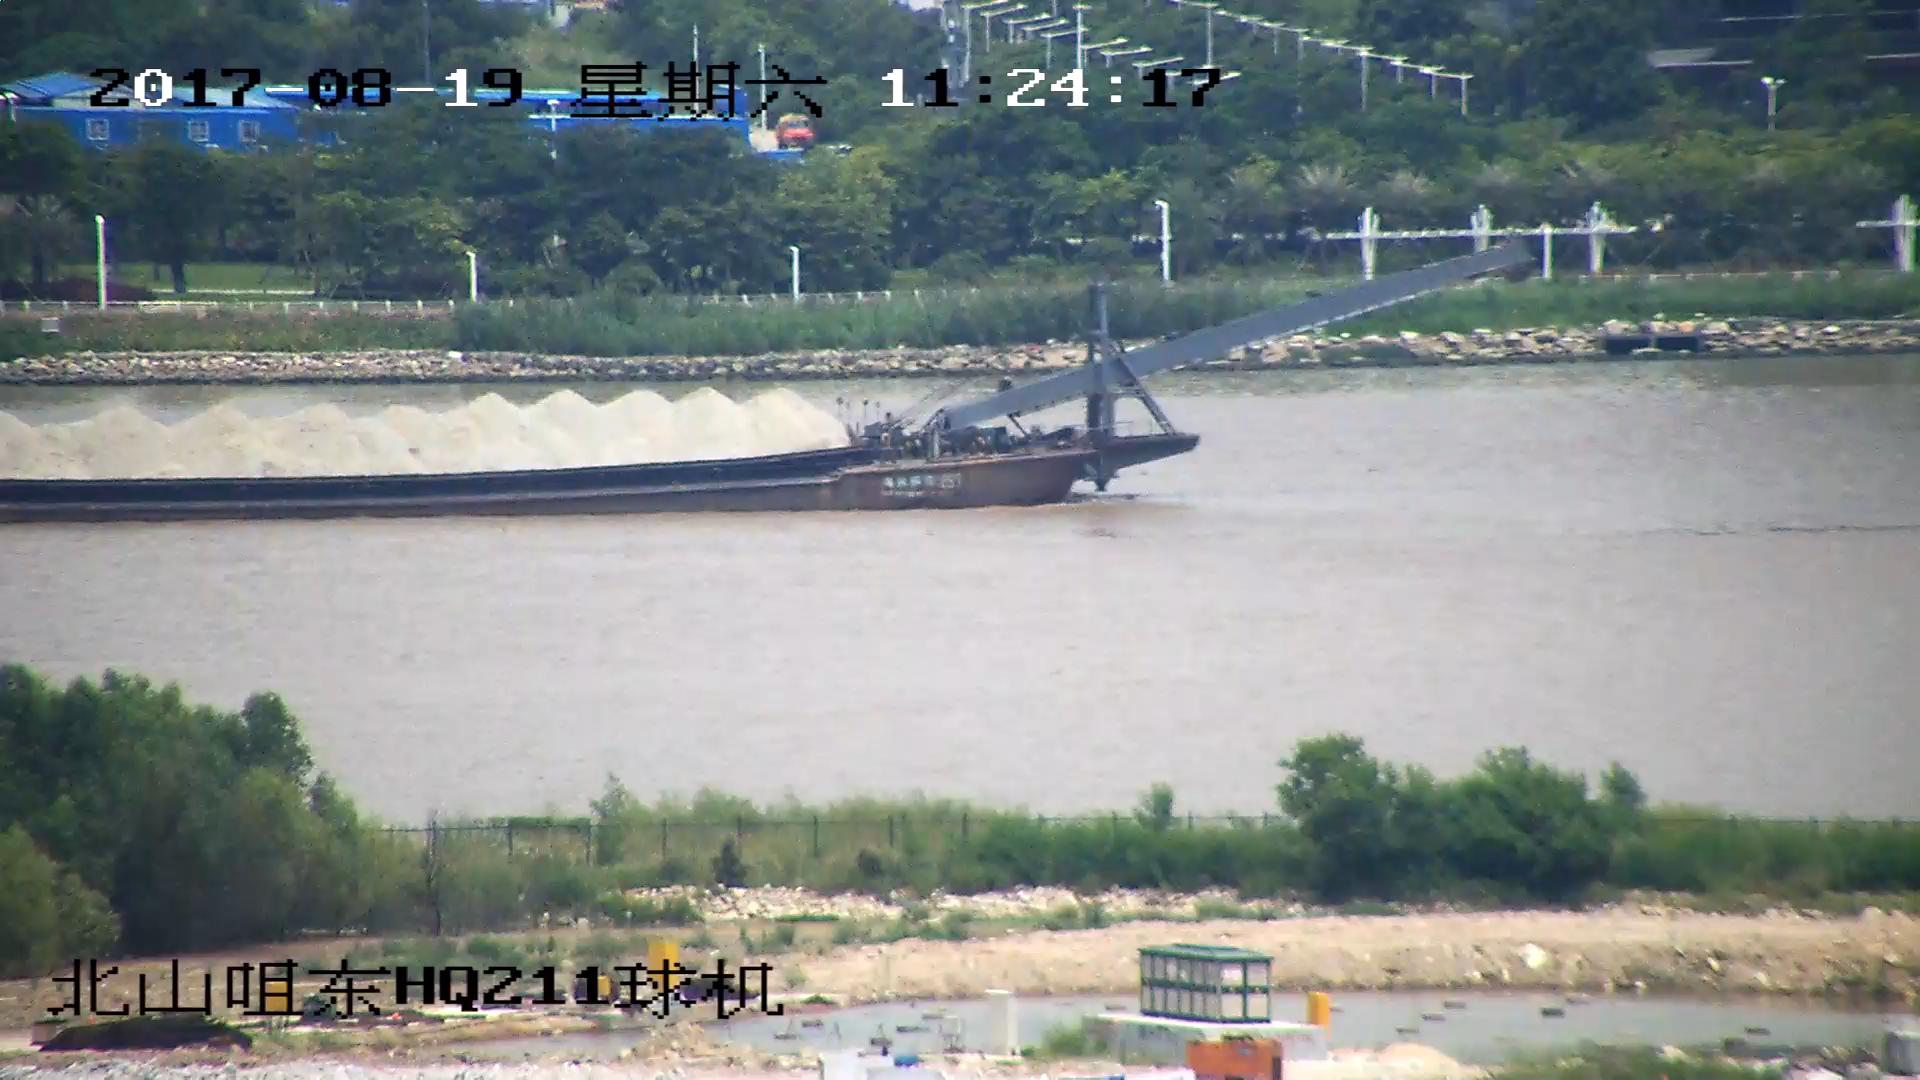ore carrier: (1, 237, 1522, 525)
